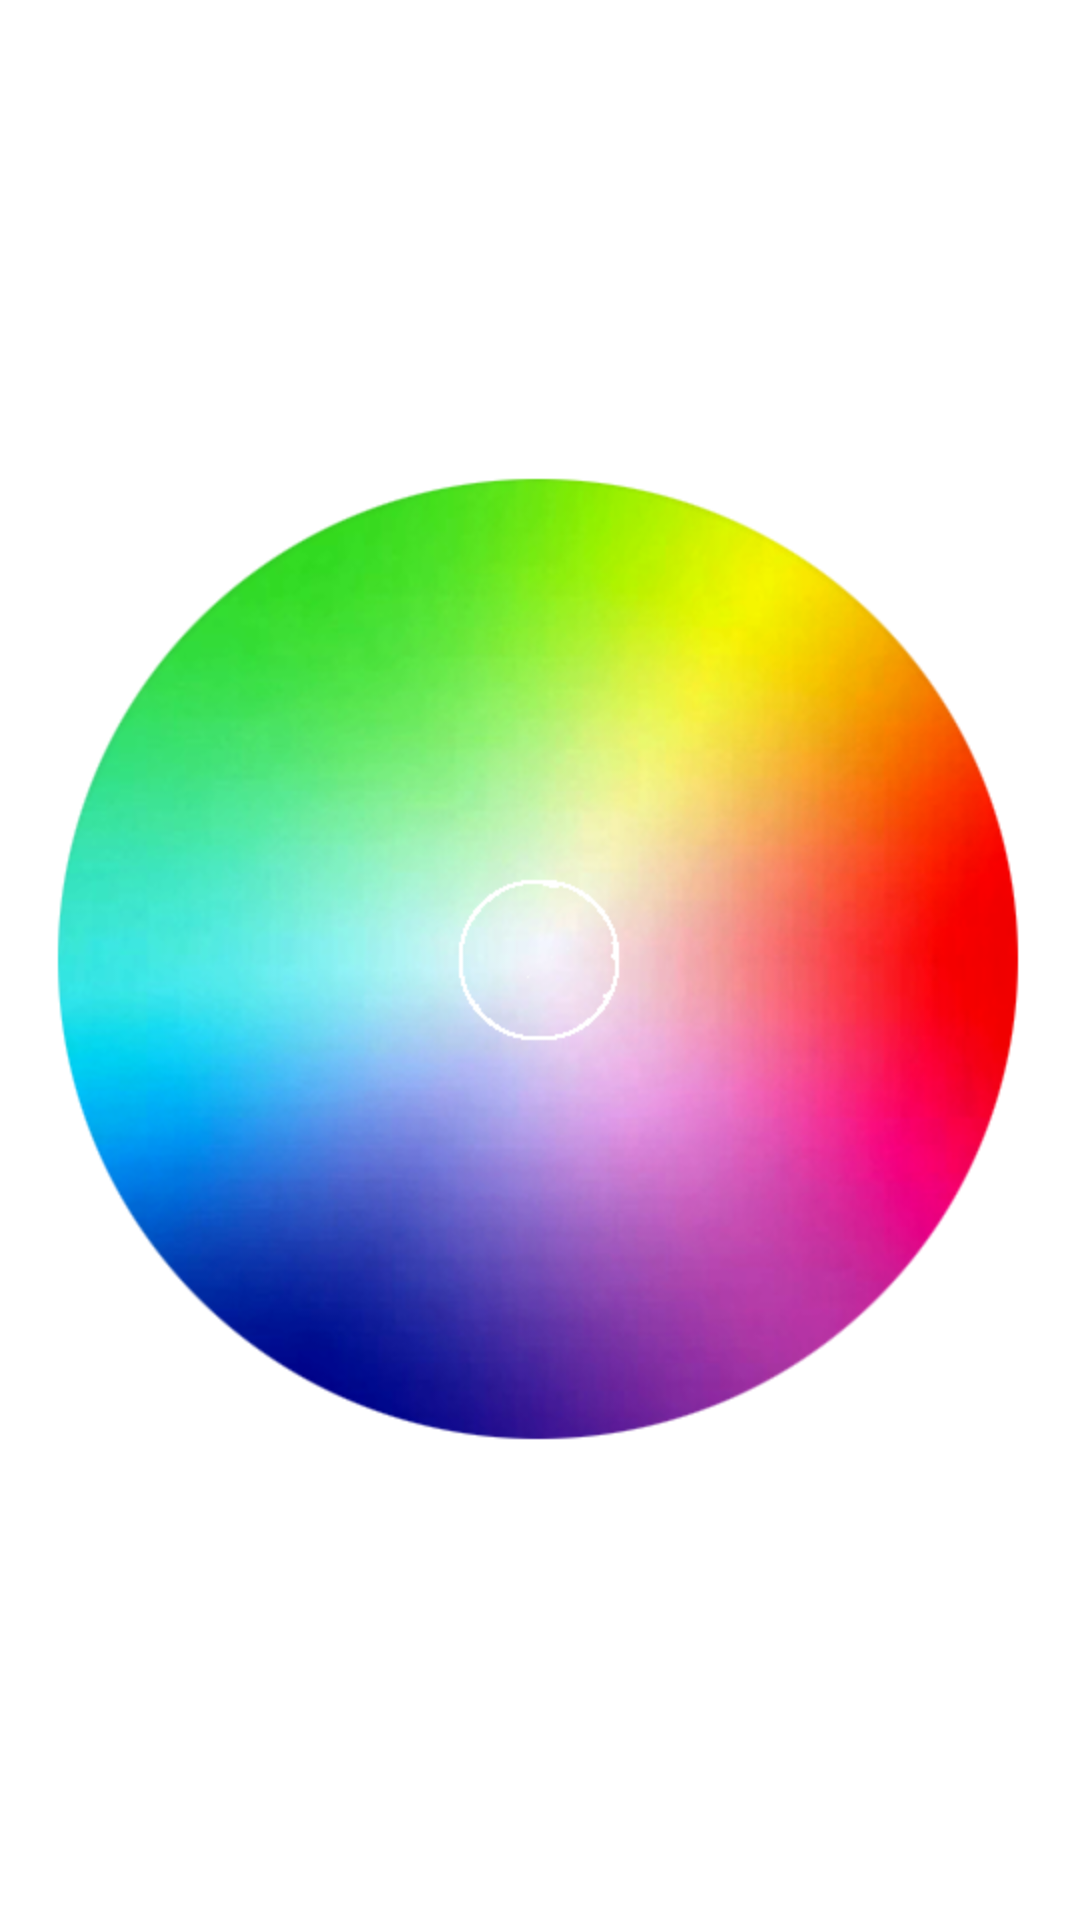

Screen size 1080*1920. Icon name, then its center in pixels as (x=x, y=y):
picker: (x=540, y=960)
